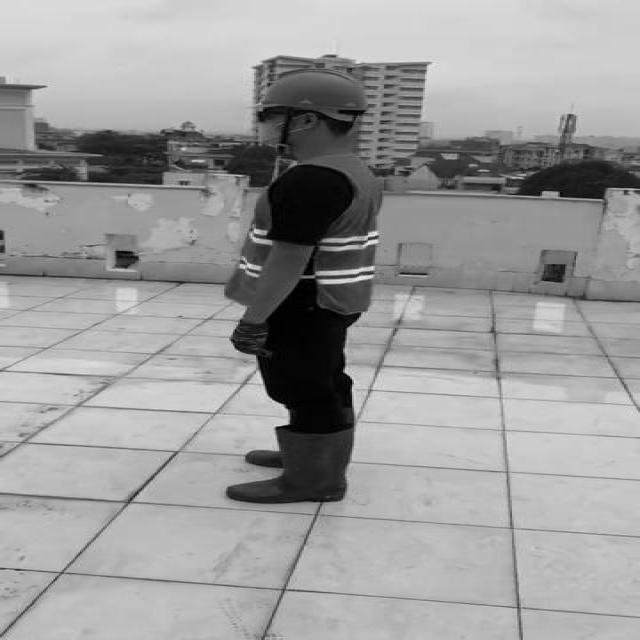boots: (220, 424, 352, 514)
face_mask: (249, 108, 304, 148)
hand_glove: (223, 316, 269, 363)
head_helmet: (253, 67, 375, 112)
person: (195, 56, 402, 516)
vest: (224, 149, 382, 315)
